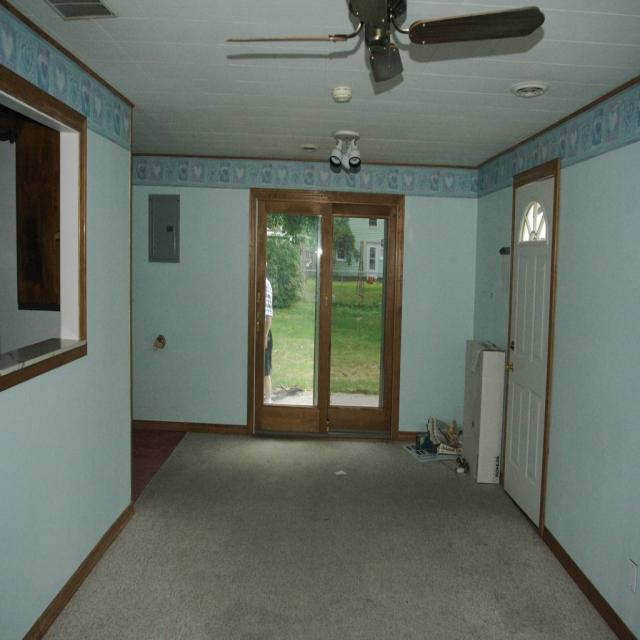fan_off: (224, 0, 540, 85)
